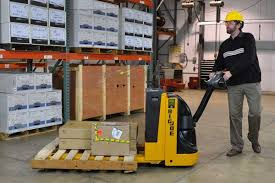Pallet Jack: (30, 70, 231, 175)
